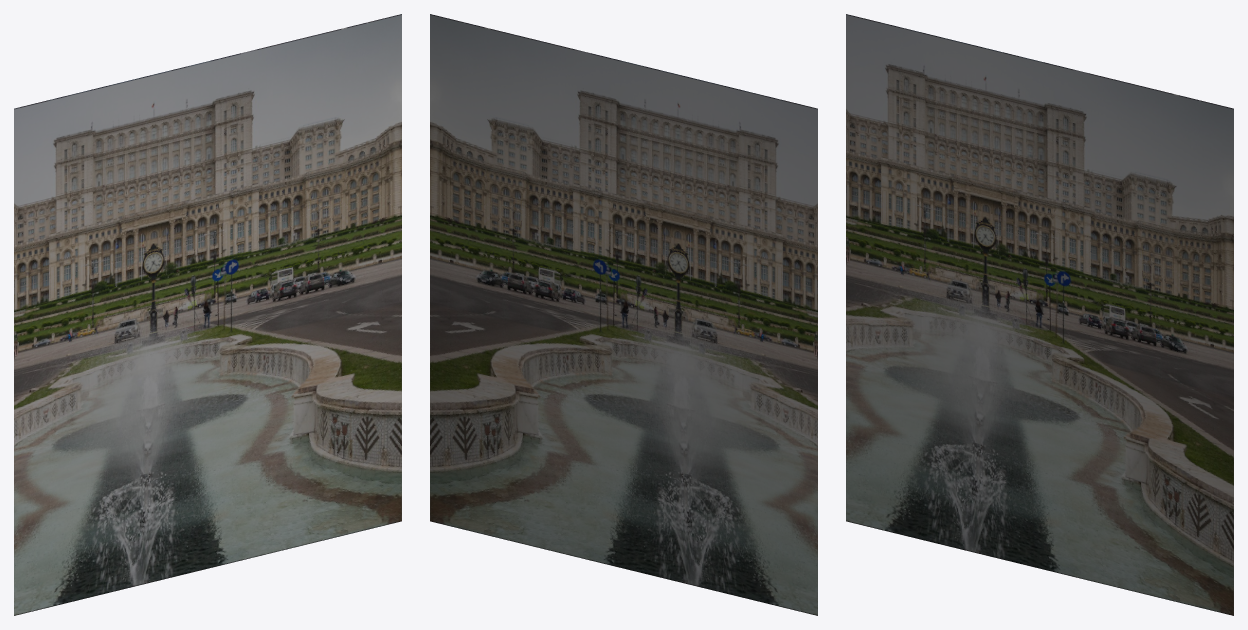
The model's file is parlamentPalace.glb.
3 renders of one model, left to right at view 1: azimuth 30°, elevation 25°; view 2: azimuth 150°, elevation 25°; view 3: azimuth 330°, elevation 25°, orthographic.
Parts seen in each view (by area): view 1: node-0; view 2: node-0; view 3: node-0.
Part boxes in pixels (bbox=[...]): node-0: bbox=[14, 14, 401, 615]; node-0: bbox=[430, 14, 817, 615]; node-0: bbox=[846, 14, 1233, 615].
Size of the model in its own units: 381 by 476 by 0.
Materials: 1 (1 with a texture image).
